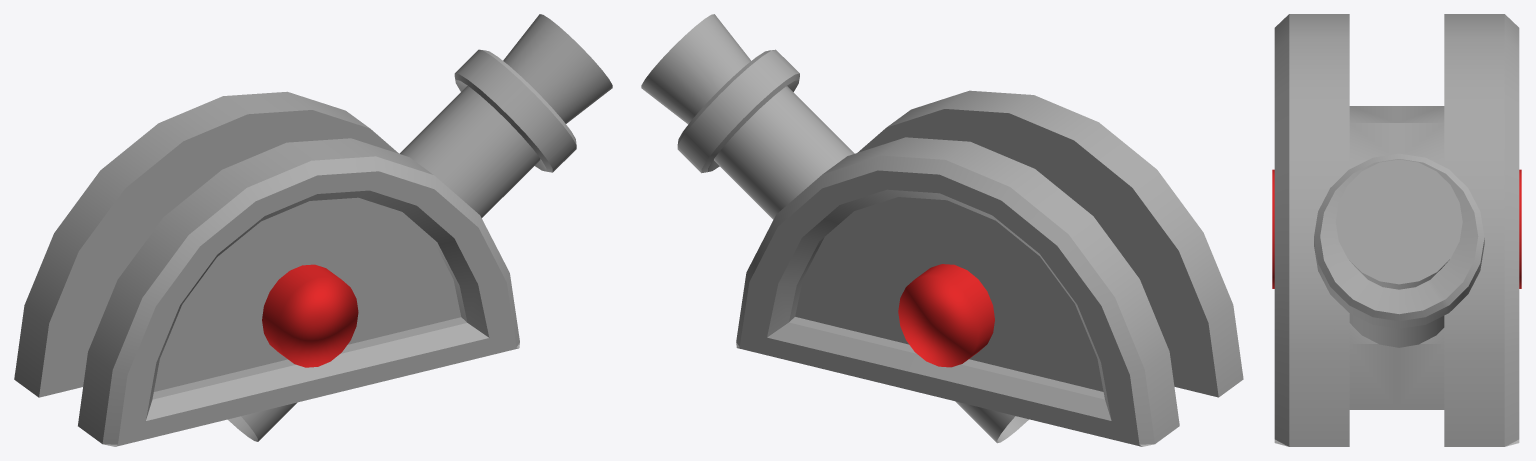
Rendered from Switch.fbx.
3 renders of one model, left to right at view 1: azimuth 30°, elevation 25°; view 2: azimuth 150°, elevation 25°; view 3: azimuth 270°, elevation 25°, orthographic. The views are drawn at different scales.
Parts seen in each view (by area): view 1: pCylinder32, pCylinder33, pCylinder31; view 2: pCylinder33, pCylinder32, pCylinder31; view 3: pCylinder32, pCylinder33, pCylinder31.
Boxes of the visible parts, x1,y1,x2,y2 form: pCylinder32: [78, 138, 519, 446]; pCylinder33: [14, 91, 398, 397]; pCylinder31: [227, 14, 612, 441]; pCylinder33: [736, 137, 1179, 446]; pCylinder32: [857, 90, 1243, 397]; pCylinder31: [641, 14, 1028, 443]; pCylinder32: [1272, 14, 1396, 446]; pCylinder33: [1397, 14, 1521, 446]; pCylinder31: [1314, 153, 1484, 347].
Size of the model in its own units: 103 by 62.29 by 33.46.
